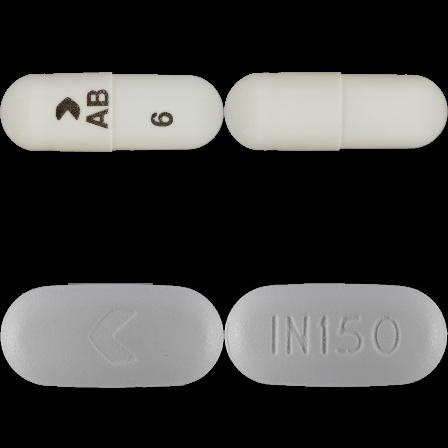0591-3762: (0, 0, 224, 224)
